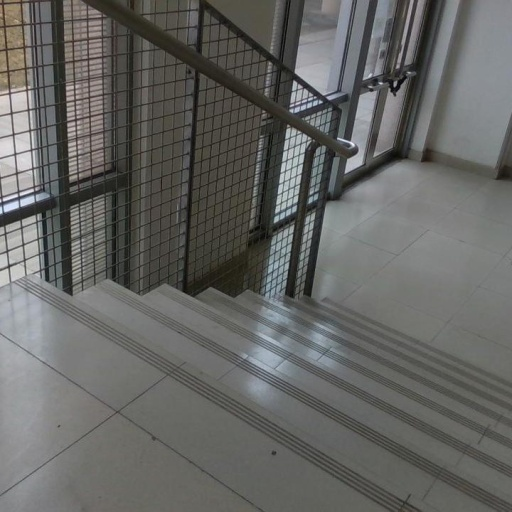Stairs: (0, 276, 512, 512)
